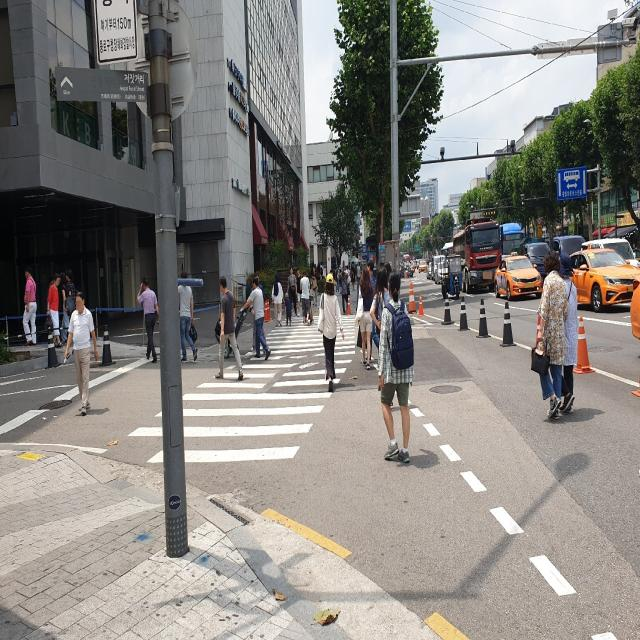횡단보도: (127, 314, 357, 466)
